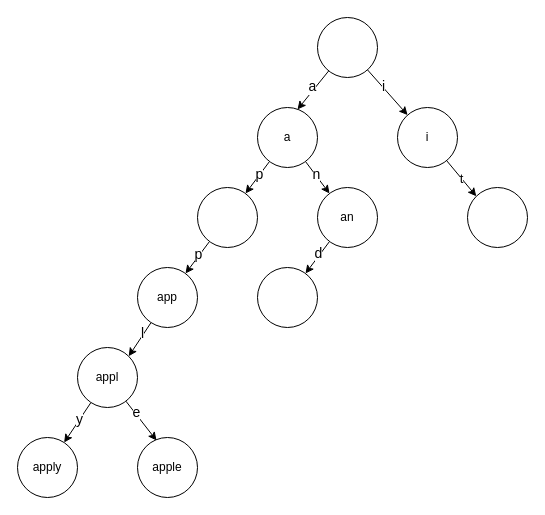
Image size: 545x515. Some labels were removed from this diagram. The centre of each missing label's shape, as x and y in pixels:
"and" belongs at [287,297].
"ap" belongs at [227,217].
"it" belongs at [497,217].
